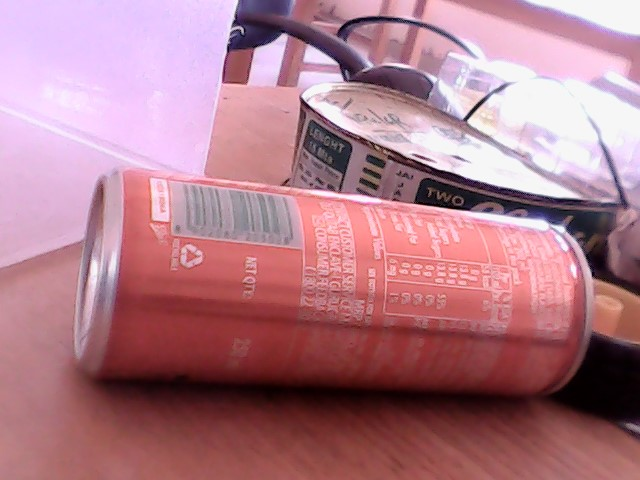Metal: (71, 161, 599, 376)
